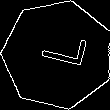L_W: (29, 34, 86, 76)
